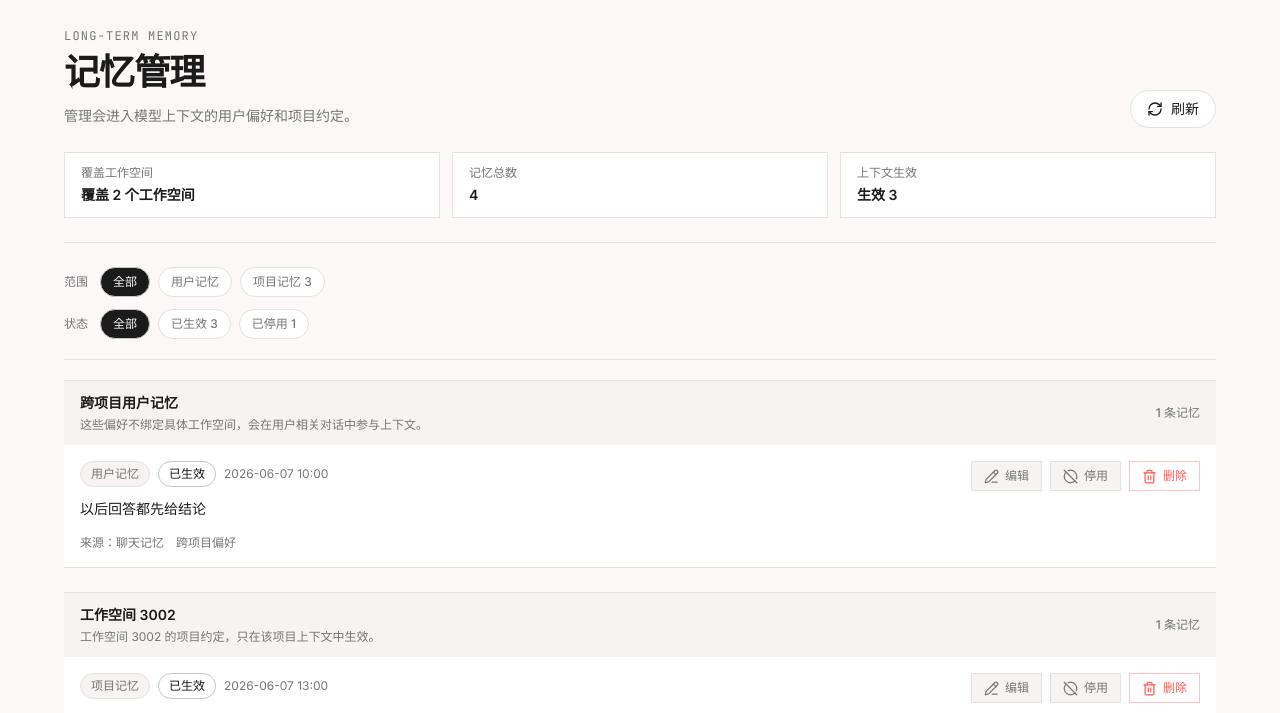
Test: MemoryView › deletes memory after custom confirmation
Check: the text "以后回答都先给结论" is shown, box x1=80 y1=500 x2=206 y2=517
Click the button with aria-label "删除记忆 以后回答都先给结论": [1164, 476] box x1=1129 y1=461 x2=1200 y2=491
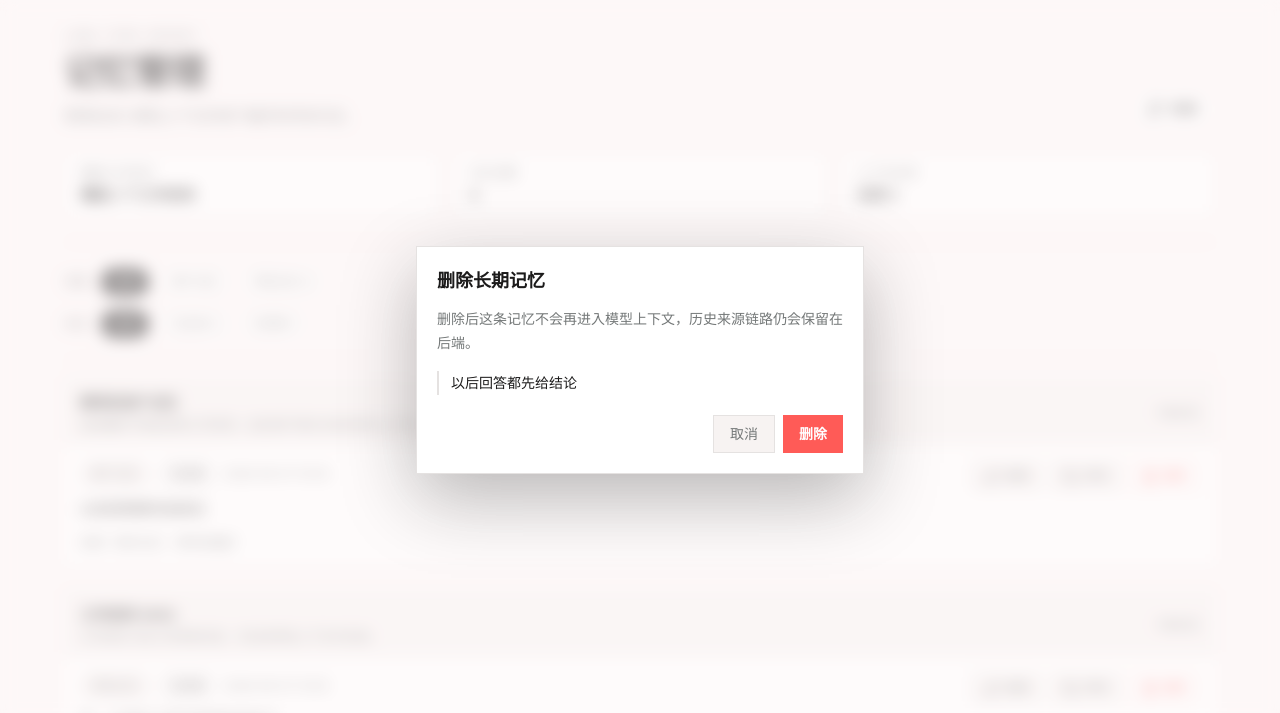
Click the button "删除": [813, 434] box x1=783 y1=415 x2=843 y2=453
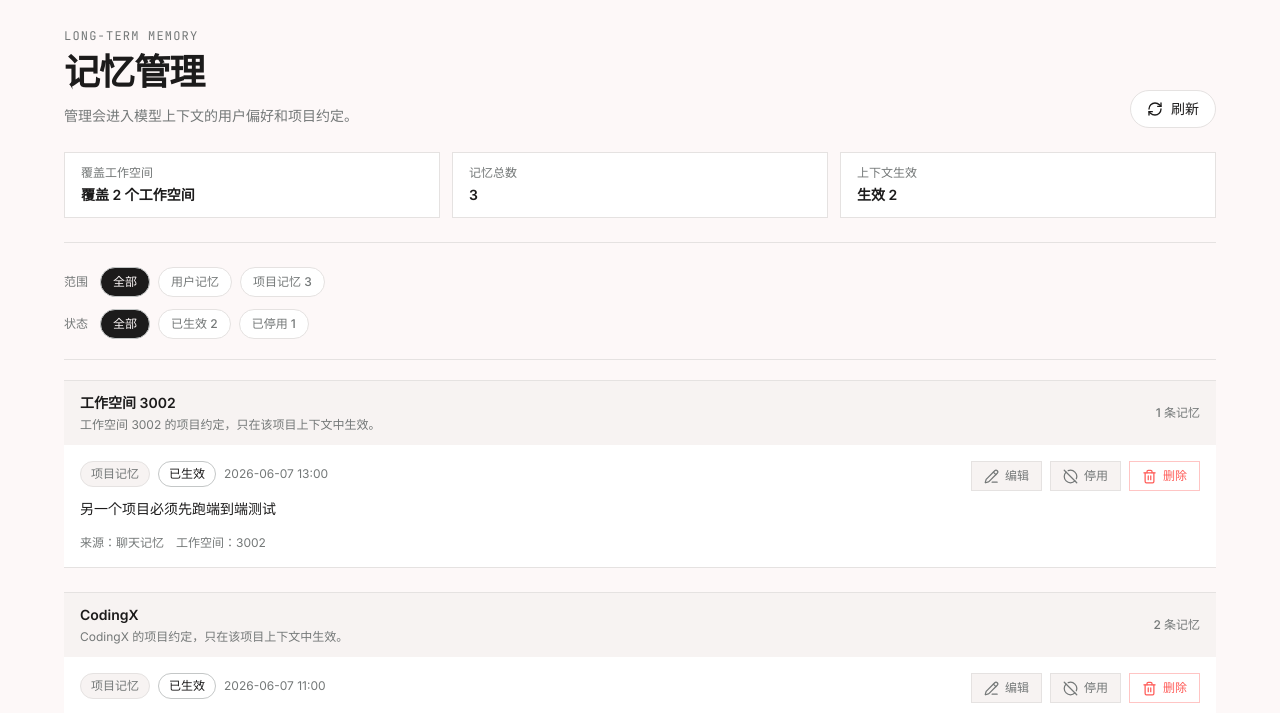
Check: the text "以后回答都先给结论" is gone
